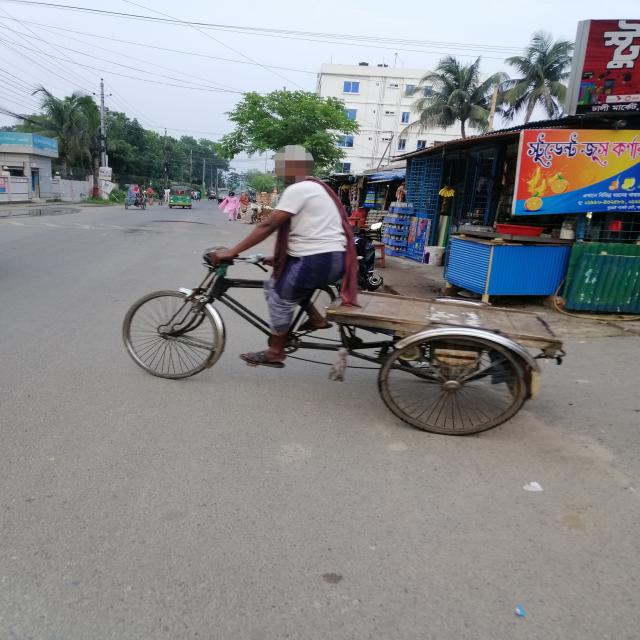Van: (97, 242, 574, 448)
